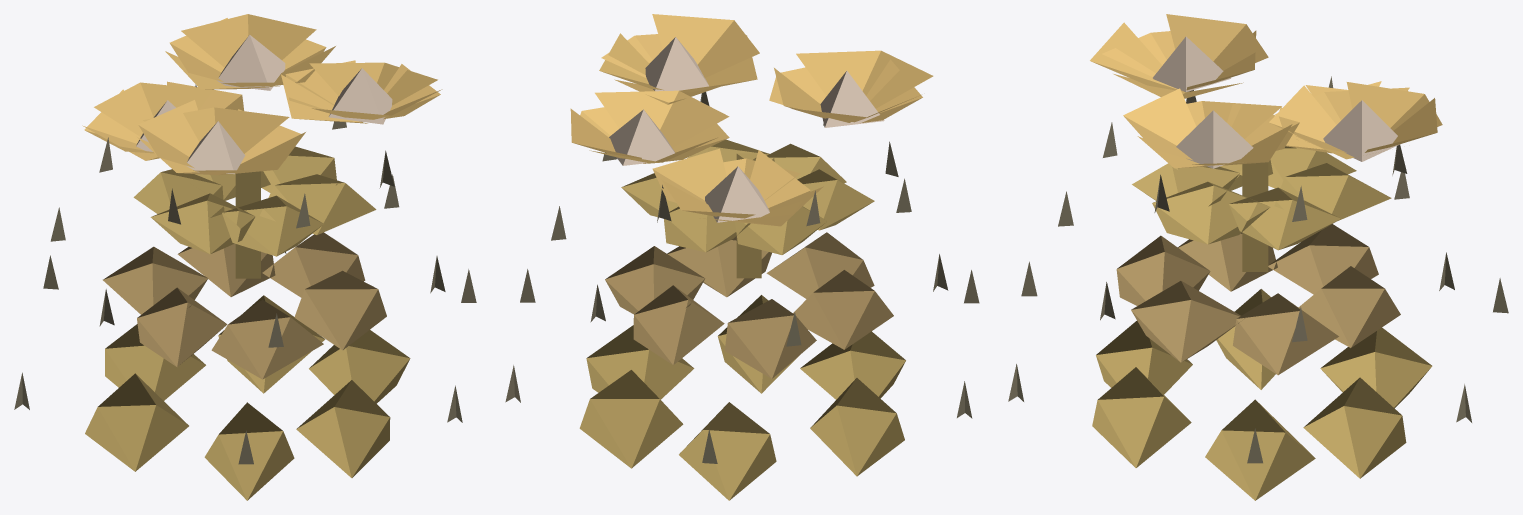
The model's file is cao.shamo__autumn.glb.
3 views of the same model, side by side, from view 1: azimuth 30°, elevation 25°; view 2: azimuth 150°, elevation 25°; view 3: azimuth 270°, elevation 25° (orthographic). The views are drawn at different scales.
Parts seen in each view (by area): view 1: cao.shamo__autumn; view 2: cao.shamo__autumn; view 3: cao.shamo__autumn.
Boxes of the visible parts, <box> form: cao.shamo__autumn: <box>14,14,476,500</box>; cao.shamo__autumn: <box>505,14,979,500</box>; cao.shamo__autumn: <box>1008,14,1508,500</box>.
Bounding box in the file's own units: 1.8 × 1.4 × 1.66.
